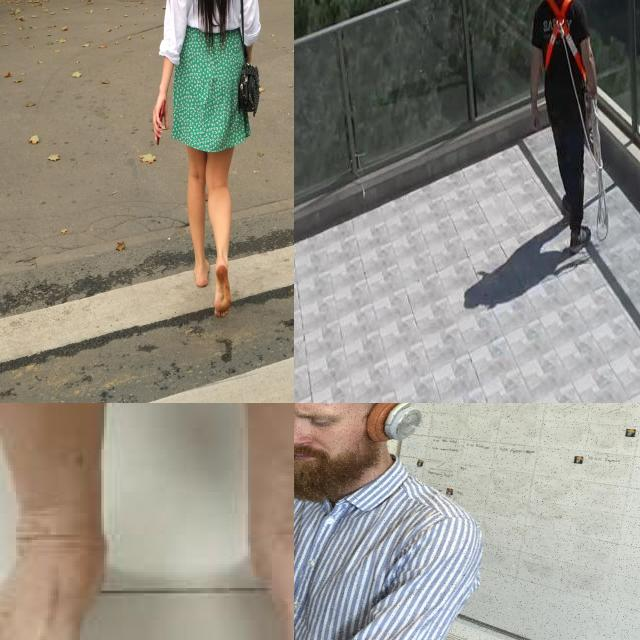Barefoots: (0, 496, 142, 640), (214, 261, 232, 318), (194, 260, 210, 288)
Ear-protection: (294, 403, 443, 510)
Harness: (585, 99, 610, 242), (545, 0, 587, 80)
